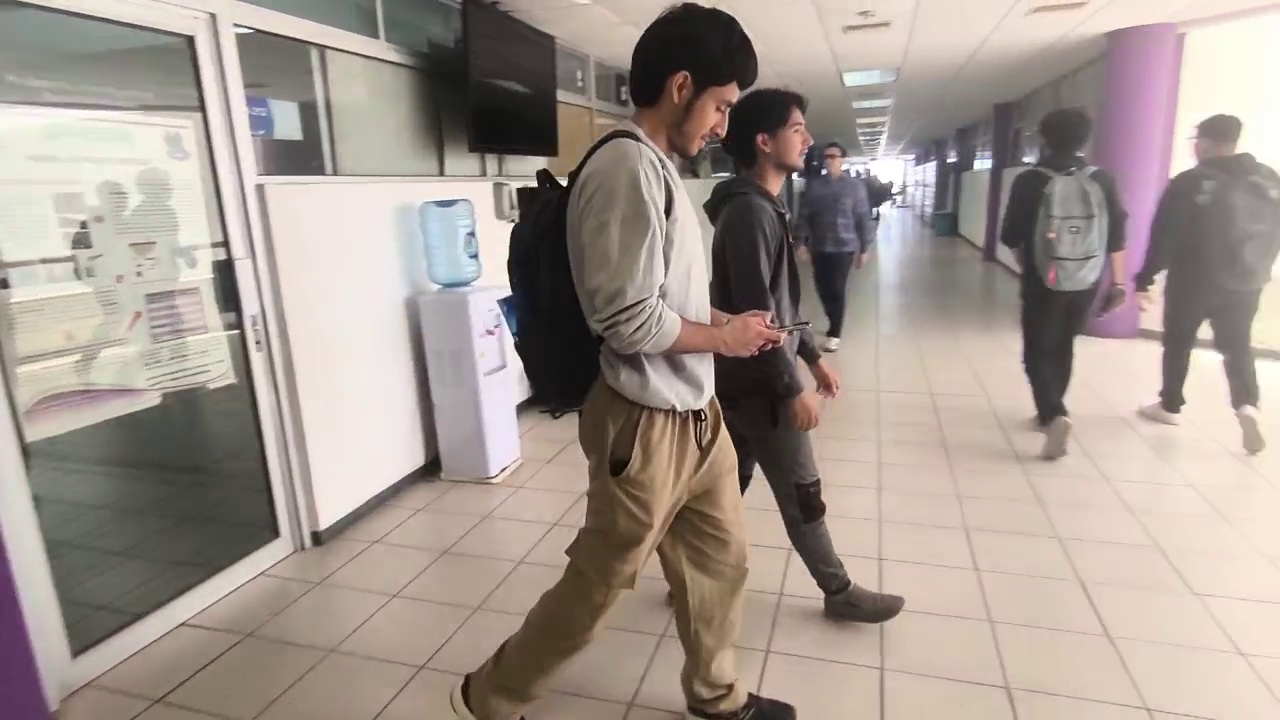mixto2: (769, 311, 817, 338)
